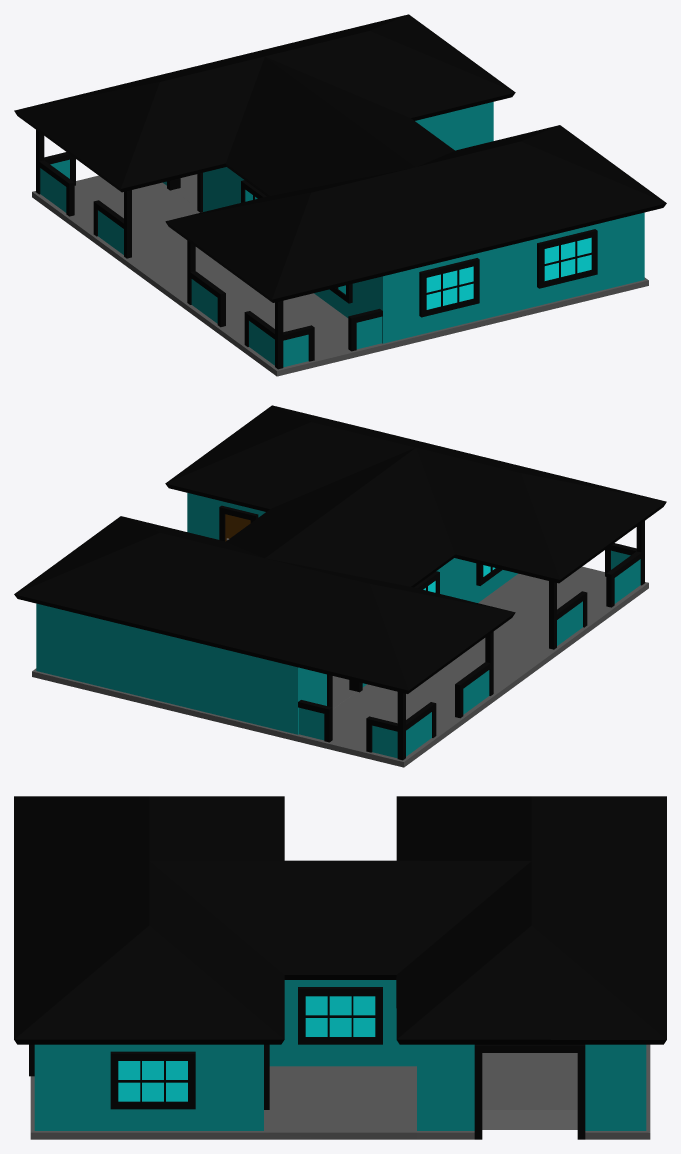
The model's file is house_006_connected.fbx.
The picture shows the model from 3 angles, top to bottom: view 1: azimuth 30°, elevation 25°; view 2: azimuth 150°, elevation 25°; view 3: azimuth 270°, elevation 25°; orthographic projection. The views are drawn at different scales.
Visible parts, largest first — view 1: Cube; view 2: Cube; view 3: Cube.
Part boxes in pixels (x1,y1,x2,y2): Cube: (14,14,666,376); Cube: (14,405,666,767); Cube: (14,796,666,1139).
Bounding box in the file's own units: 1508 × 474 × 1707.
